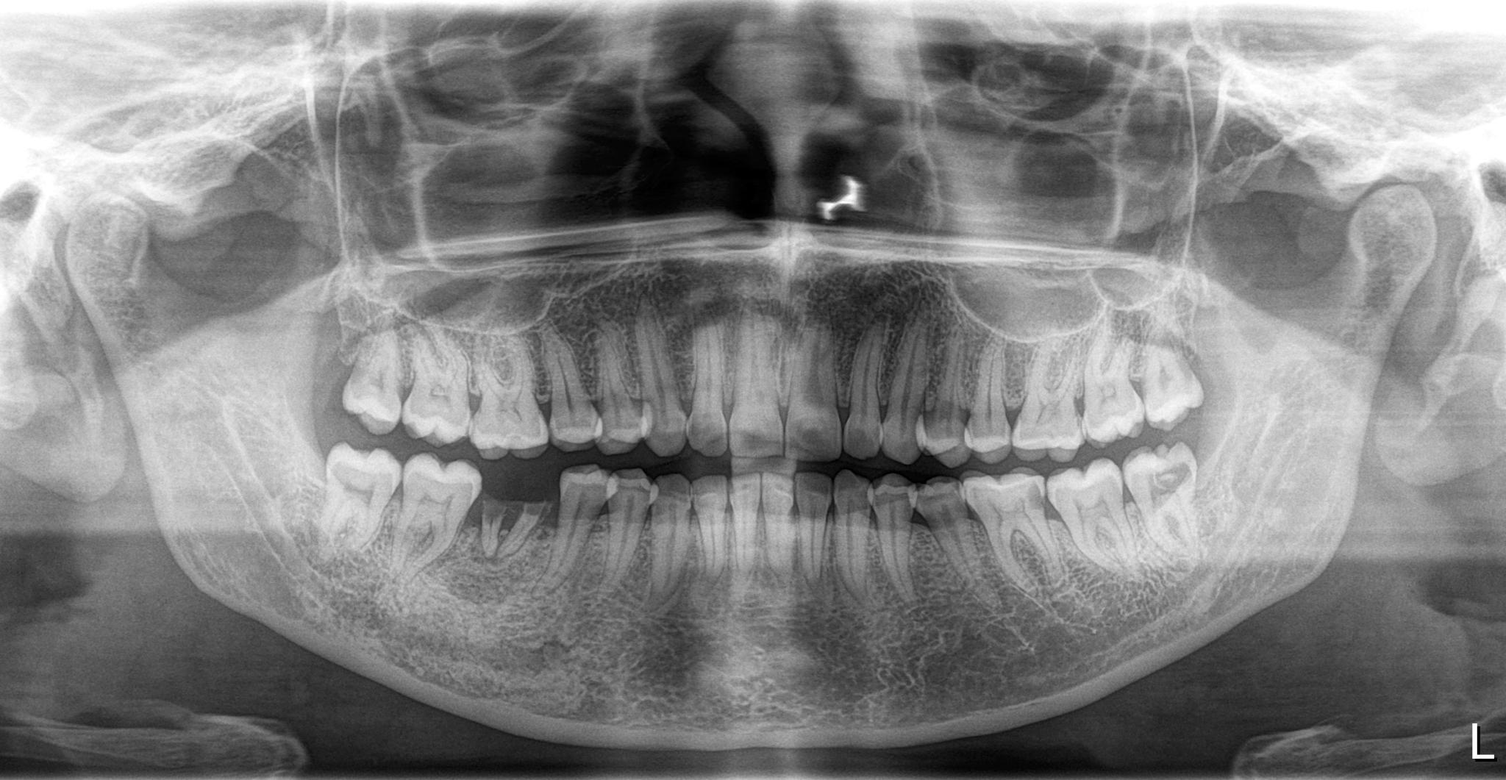Dental Caries: (1142, 459, 1204, 509), (1017, 480, 1052, 532)
Periodontal Pocket: (1047, 496, 1139, 581)
Retained Root: (515, 480, 554, 578), (482, 478, 510, 582)
